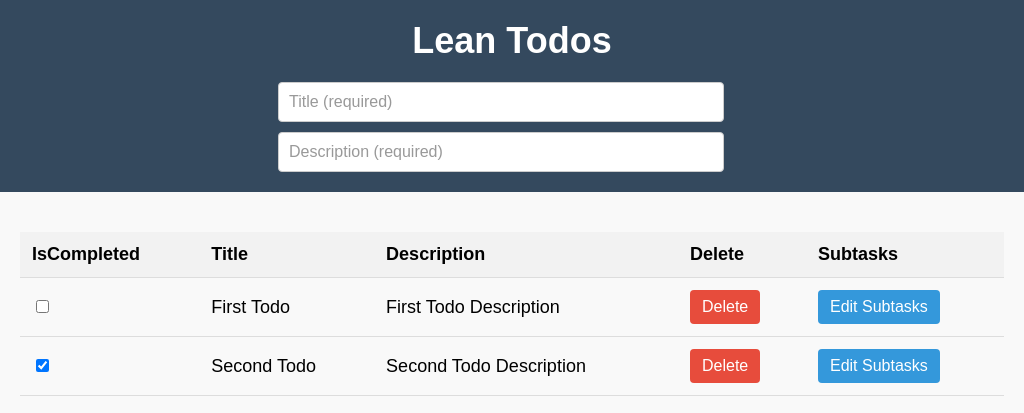
Scenario: Todos › toggles completeion state of a task
The width and height of the screenshot is (1024, 413).
Expected: the element with test id "toggle" is not checked
Check the checkbox with test id "toggle" in the row of "First Todo Description".
click(43, 307)  # box top-left (36, 300), bottom-right (49, 313)
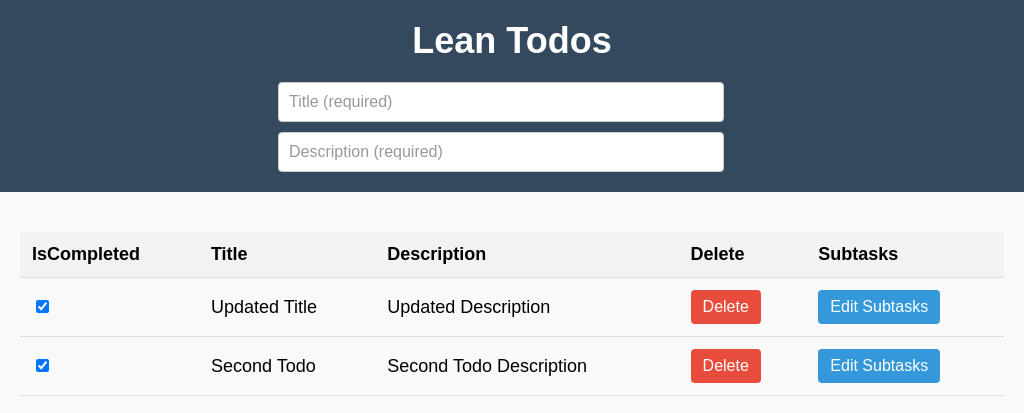
Result: the checkbox with test id "toggle" in the row of "Updated Title" is checked at top-left (36, 300), bottom-right (49, 313)
